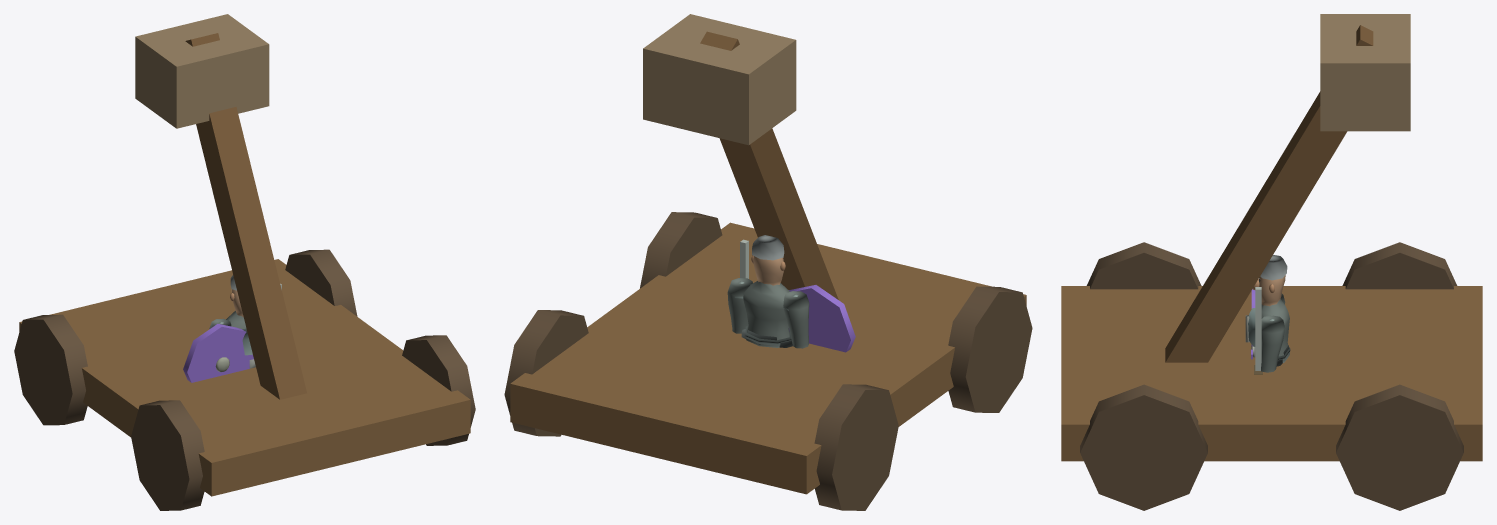
Rendered from catapult_team2.glb.
3 views of the same model, side by side, from view 1: azimuth 30°, elevation 25°; view 2: azimuth 150°, elevation 25°; view 3: azimuth 270°, elevation 25° (orthographic). The views are drawn at different scales.
Parts seen in each view (by area): view 1: part_11, part_16, part_17, part_12, part_13, part_15, part_3, part_14; view 2: part_11, part_17, part_12, part_13, part_16, part_14, part_15, part_0, part_3, part_1, part_2, part_5; view 3: part_11, part_16, part_14, part_15, part_17, part_12, part_13, part_5, part_1, part_0, part_6.
Boxes of the visible parts, left/top/right/bottom form: part_11: left=19, top=259, right=470, bottom=496; part_16: left=185, top=33, right=306, bottom=399; part_17: left=135, top=14, right=269, bottom=128; part_12: left=14, top=314, right=87, bottom=425; part_13: left=131, top=400, right=204, bottom=510; part_15: left=402, top=335, right=475, bottom=445; part_3: left=183, top=324, right=253, bottom=382; part_14: left=285, top=249, right=357, bottom=316; part_11: left=510, top=222, right=1026, bottom=494; part_17: left=643, top=14, right=796, bottom=145; part_12: left=814, top=384, right=898, bottom=510; part_13: left=948, top=286, right=1032, bottom=412; part_16: left=700, top=31, right=838, bottom=299; part_14: left=504, top=310, right=588, bottom=436; part_15: left=640, top=212, right=722, bottom=288; part_0: left=743, top=281, right=791, bottom=347; part_3: left=789, top=285, right=855, bottom=352; part_1: left=751, top=235, right=785, bottom=285; part_2: left=783, top=291, right=809, bottom=348; part_5: left=727, top=278, right=752, bottom=333; part_11: left=1061, top=286, right=1482, bottom=461; part_16: left=1165, top=25, right=1373, bottom=362; part_14: left=1336, top=384, right=1463, bottom=510; part_15: left=1080, top=384, right=1207, bottom=510; part_17: left=1320, top=14, right=1410, bottom=131; part_12: left=1342, top=242, right=1457, bottom=289; part_13: left=1086, top=242, right=1201, bottom=289; part_5: left=1261, top=315, right=1285, bottom=372; part_1: left=1252, top=255, right=1287, bottom=306; part_0: left=1245, top=299, right=1290, bottom=362; part_6: left=1255, top=287, right=1261, bottom=370.
Size of the model in its own units: 2.32 by 2.85 by 2.7.
